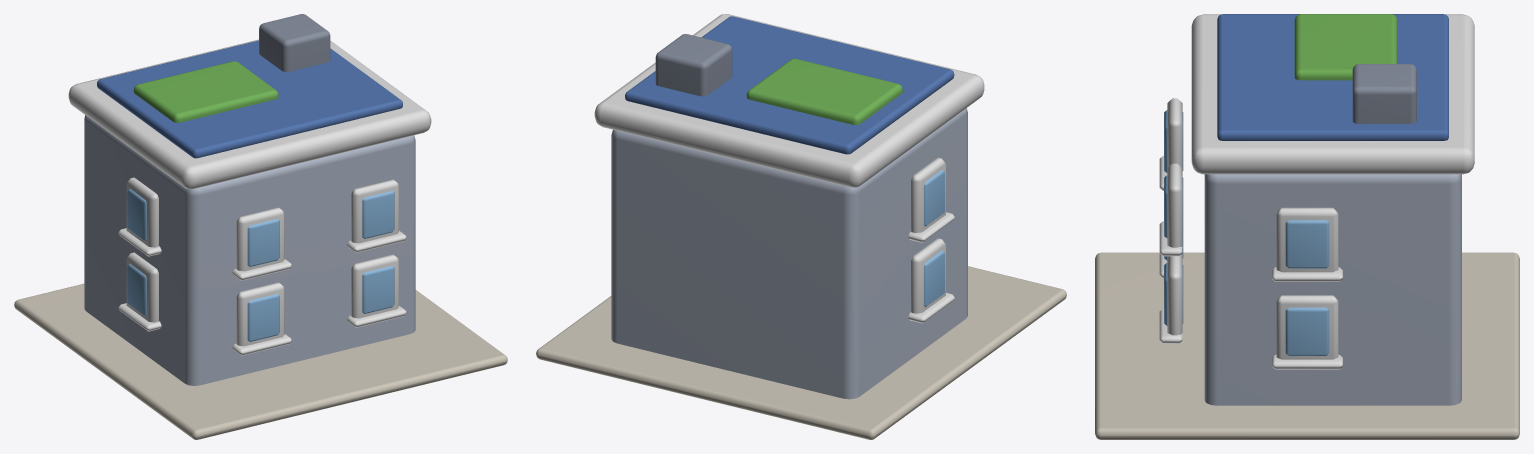
3 views of the same model, side by side, from view 1: azimuth 30°, elevation 25°; view 2: azimuth 150°, elevation 25°; view 3: azimuth 270°, elevation 25° (orthographic). The views are drawn at different scales.
Parts seen in each view (by area): view 1: Cube; view 2: Cube; view 3: Cube.
Boxes of the visible parts, box(x1,y1,x2,y2) form: Cube: box(14, 14, 507, 439); Cube: box(536, 14, 1066, 439); Cube: box(1095, 14, 1519, 439).
Bounding box in the file's own units: 0.66 × 0.55 × 0.66.
